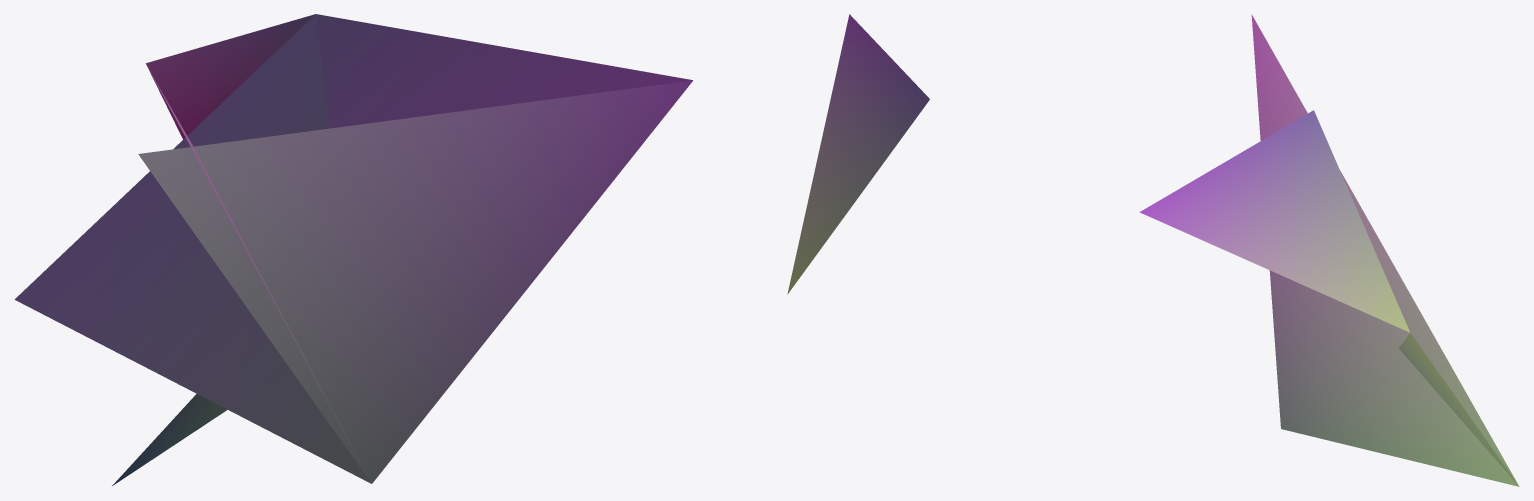
3 renders of one model, left to right at view 1: azimuth 30°, elevation 25°; view 2: azimuth 150°, elevation 25°; view 3: azimuth 270°, elevation 25°, orthographic. The views are drawn at different scales.
Bounding box in the file's own units: 0.7168 × 0.7764 × 0.7579.
